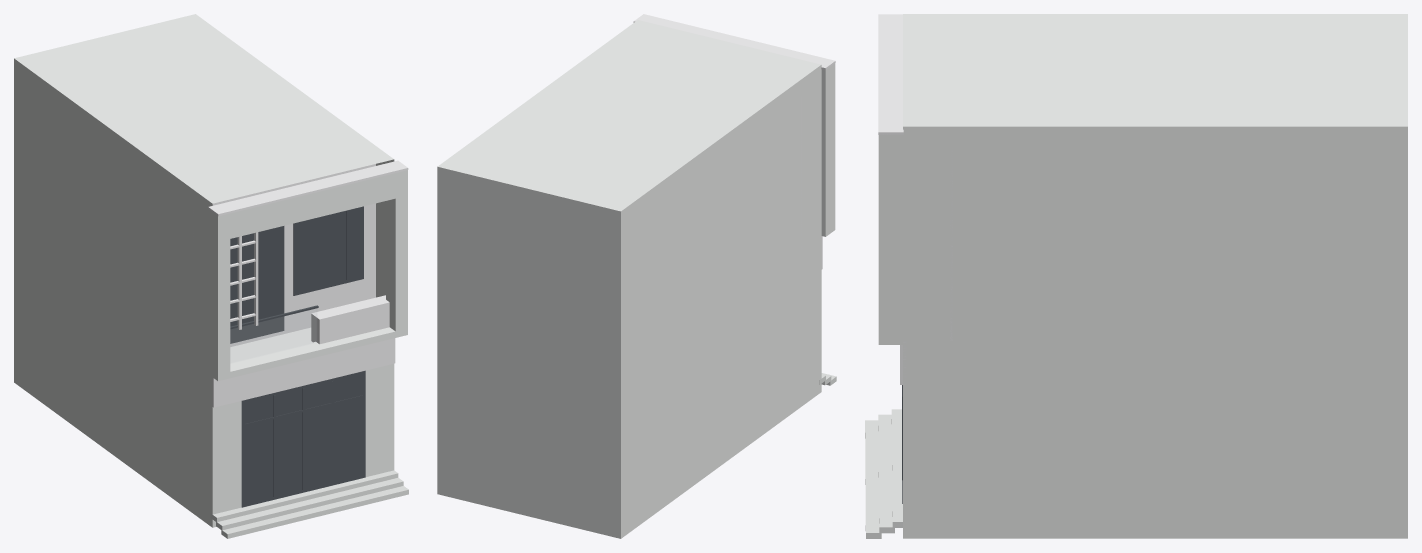
File: nha-ong-tam.glb
3 views of the same model, side by side, from view 1: azimuth 30°, elevation 25°; view 2: azimuth 150°, elevation 25°; view 3: azimuth 270°, elevation 25° (orthographic). The views are drawn at different scales.
Parts seen in each view (by area): view 1: Object_4, Object_16; view 2: Object_4; view 3: Object_4.
Boxes of the visible parts, <box> form: Object_4: <box>14,14,408,538</box>; Object_16: <box>231,309,316,362</box>; Object_4: <box>437,14,836,538</box>; Object_4: <box>865,14,1407,538</box>.
Bounding box in the file's own units: 0.5136 × 0.838 × 1.
3 materials, 3 textured.
